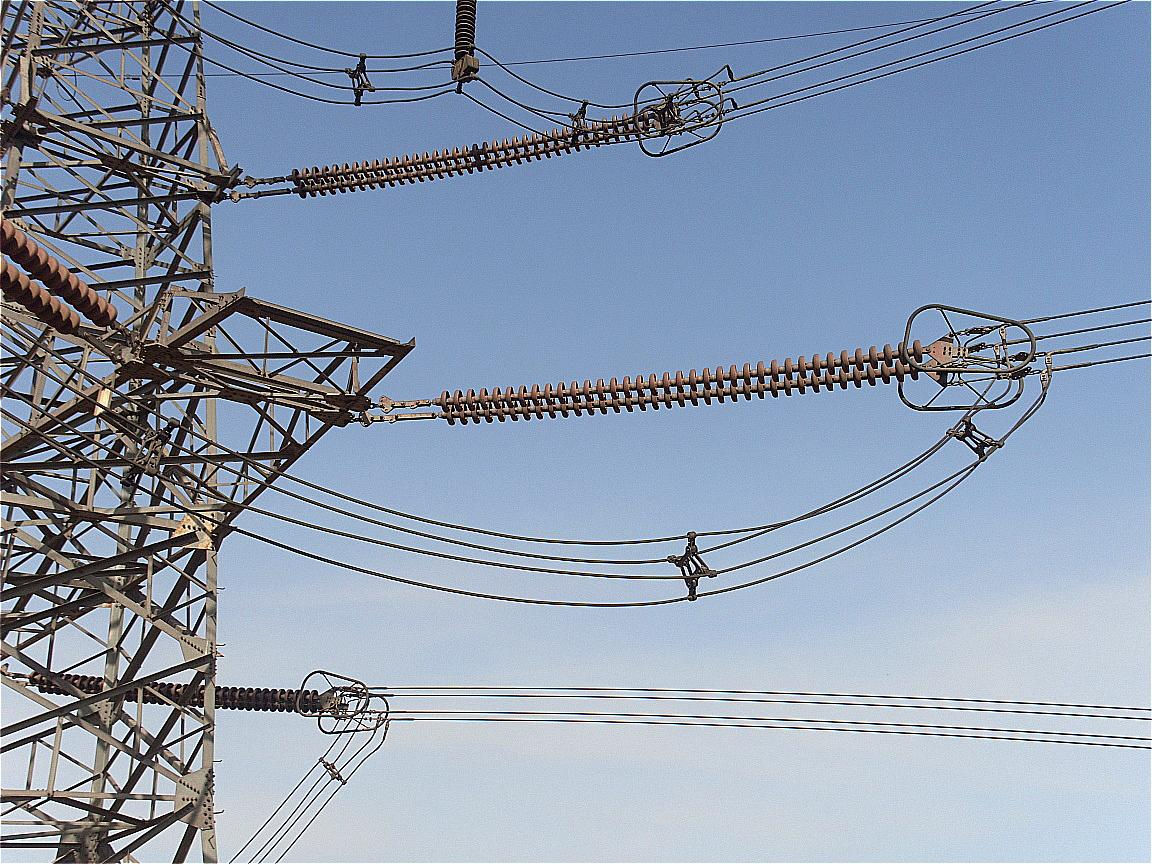insultor1: (437, 339, 926, 428), (291, 113, 634, 200), (30, 669, 322, 717)
